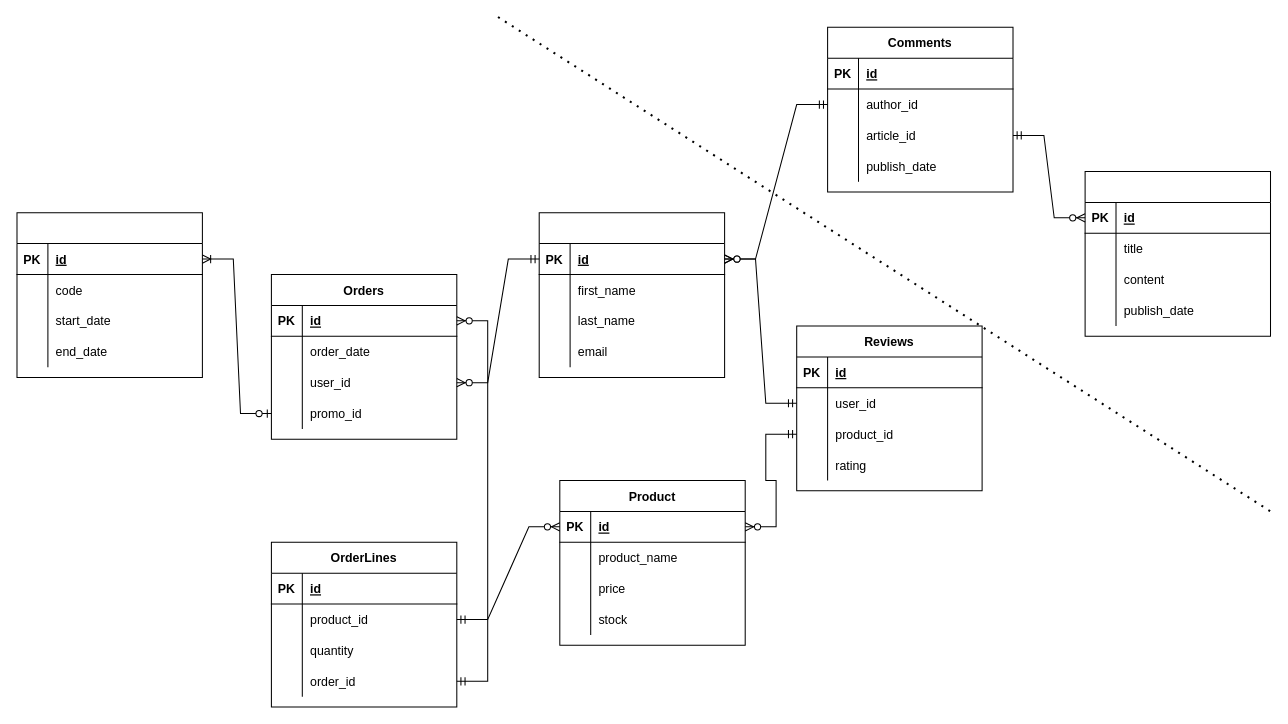
This 1288x724 diagram has some shape labels left out. The shapes that lost their labels are listed below. From the top down, each one's box as (x1, y1, x2, y2) in pixels, then its label:
(1084, 170, 1271, 336): Articles
(16, 212, 202, 377): Promocodes
(538, 212, 725, 377): Users
